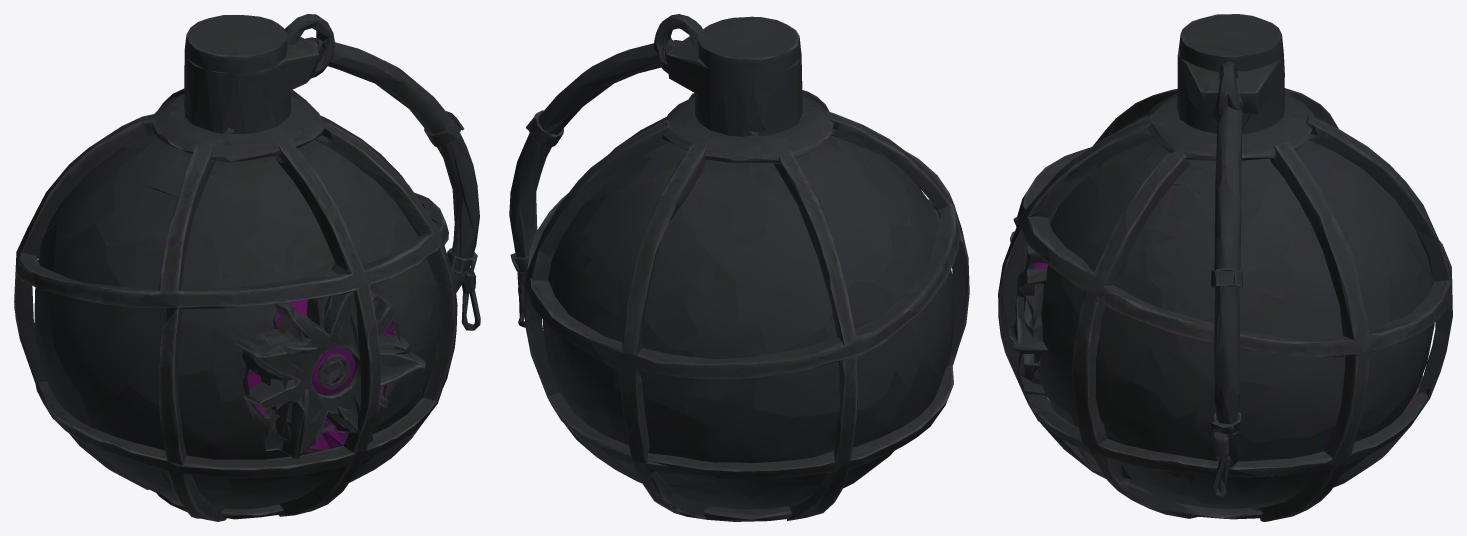
Rendered from mx_nova_bomb.glb.
3 views of the same model, side by side, from view 1: azimuth 30°, elevation 25°; view 2: azimuth 150°, elevation 25°; view 3: azimuth 270°, elevation 25° (orthographic).
Bounding box in the file's own units: 1.84 × 1.9 × 1.7.
1 material, 1 textured.
